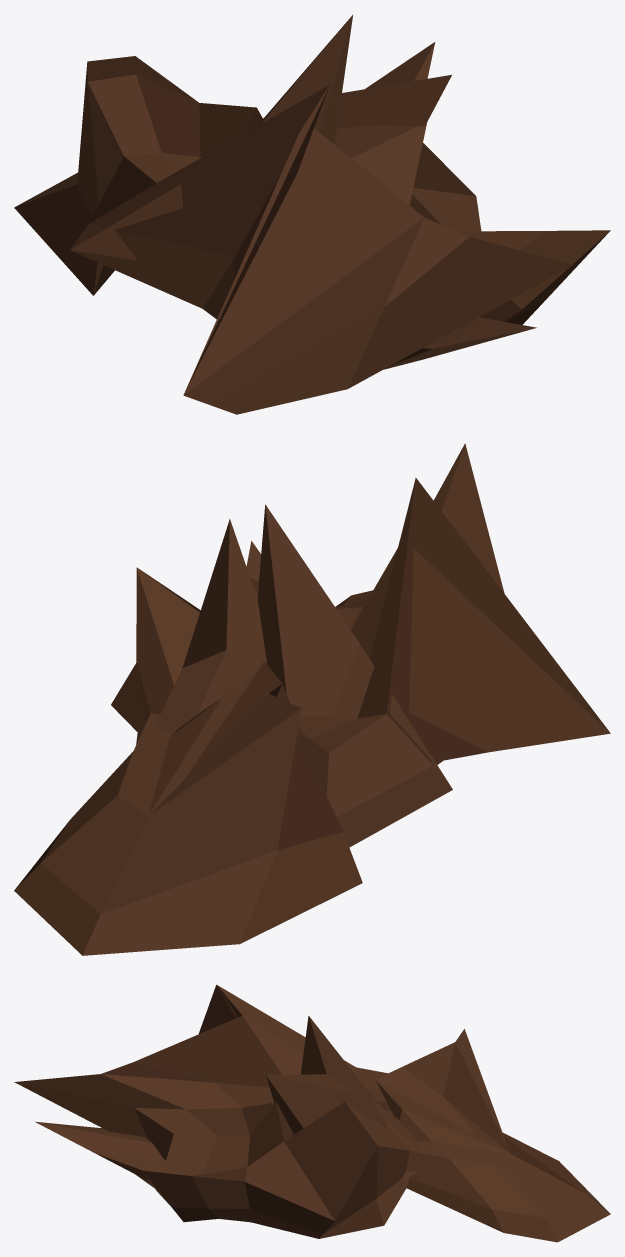
3 views of the same model, one above another, from view 1: azimuth 30°, elevation 25°; view 2: azimuth 150°, elevation 25°; view 3: azimuth 270°, elevation 25° (orthographic). The views are drawn at different scales.
Parts seen in each view (by area): view 1: hair; view 2: hair; view 3: hair.
Boxes of the visible parts, left/top/right/bottom form: hair: left=14, top=14, right=610, bottom=414; hair: left=14, top=443, right=610, bottom=955; hair: left=14, top=984, right=610, bottom=1242.
Size of the model in its own units: 0.4502 by 0.3217 by 0.8315.
